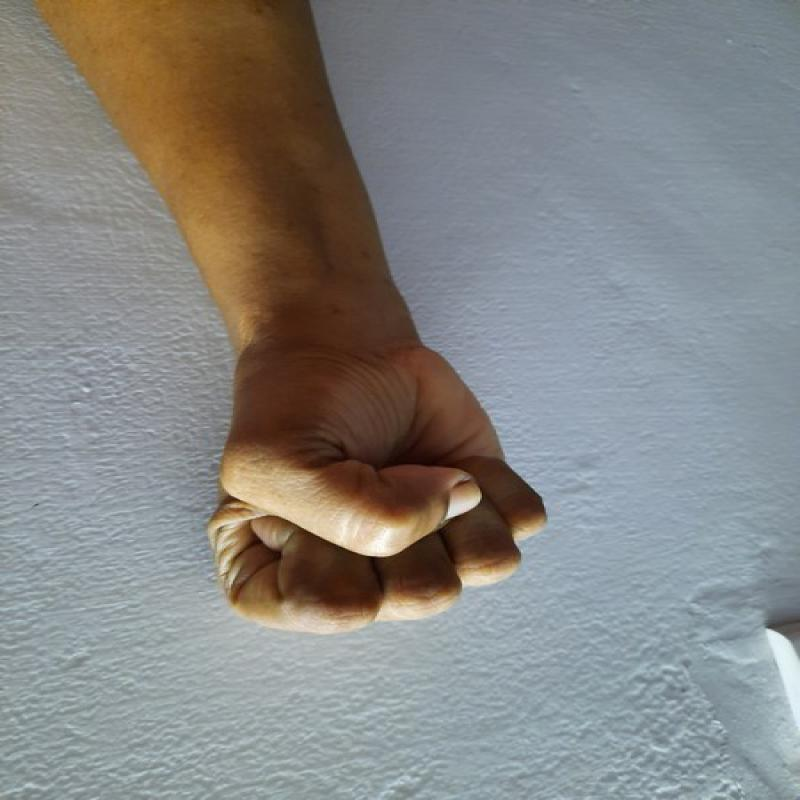Mushti: (202, 287, 548, 642)
